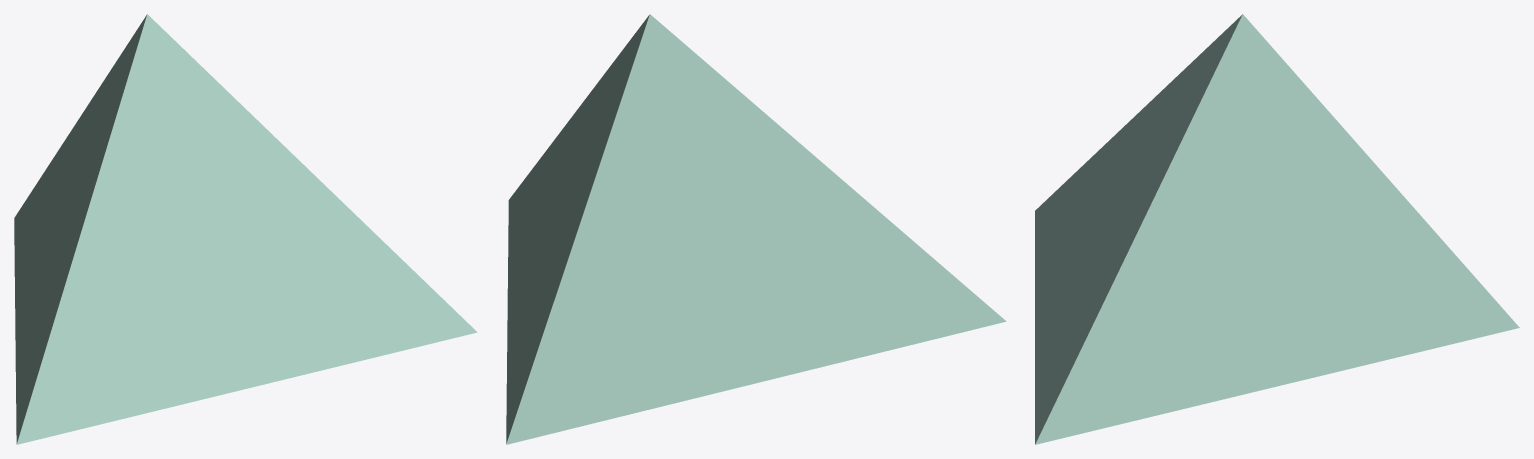
File: preview-mesh.glb
3 views of the same model, side by side, from view 1: azimuth 30°, elevation 25°; view 2: azimuth 150°, elevation 25°; view 3: azimuth 270°, elevation 25° (orthographic). The views are drawn at different scales.
Visible parts, largest first — view 1: Preview tetrahedron; view 2: Preview tetrahedron; view 3: Preview tetrahedron.
Part boxes in pixels (x1,y1,x2,y2): Preview tetrahedron: (14, 14, 477, 444); Preview tetrahedron: (506, 14, 1006, 444); Preview tetrahedron: (1035, 14, 1519, 444).
Size of the model in its own units: 1.6 by 1 by 1.4.
